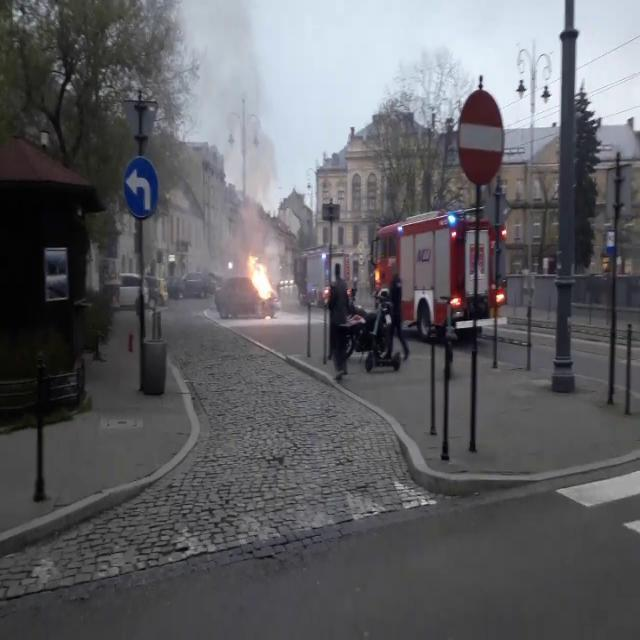Fire: (244, 244, 276, 306)
Smoke: (152, 1, 282, 248)
